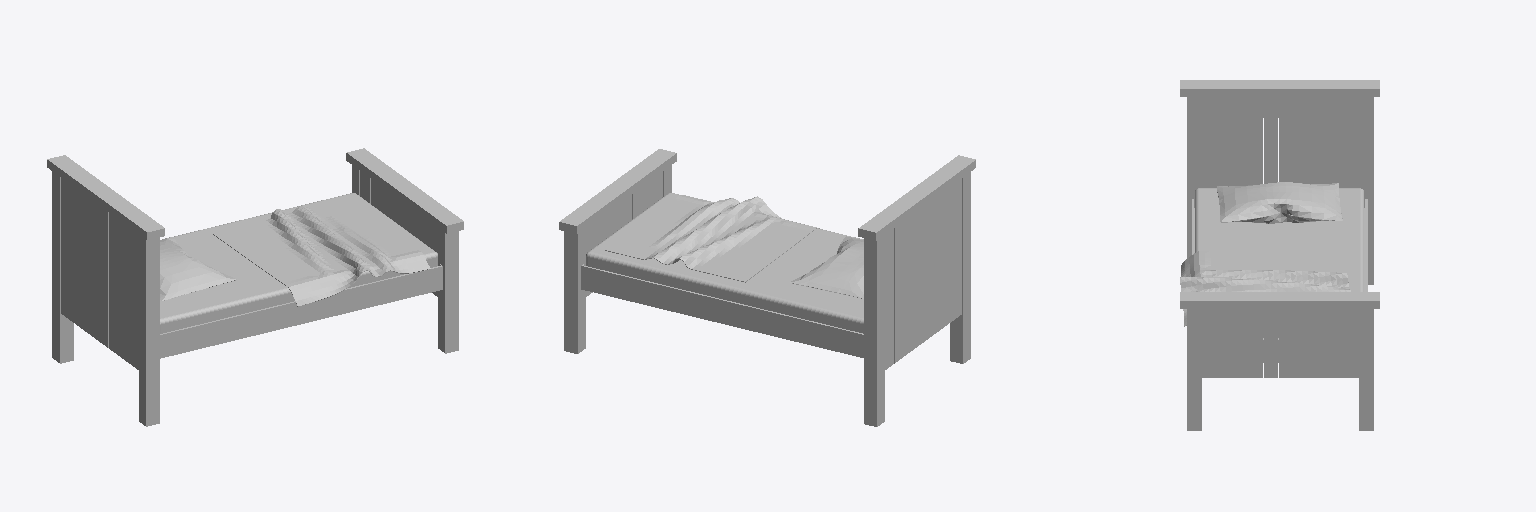
The model's file is bedConverted.obj.
3 renders of one model, left to right at view 1: azimuth 30°, elevation 25°; view 2: azimuth 150°, elevation 25°; view 3: azimuth 270°, elevation 25°, orthographic.
Bounding box in the file's own units: 1.82 × 1.08 × 0.9963.